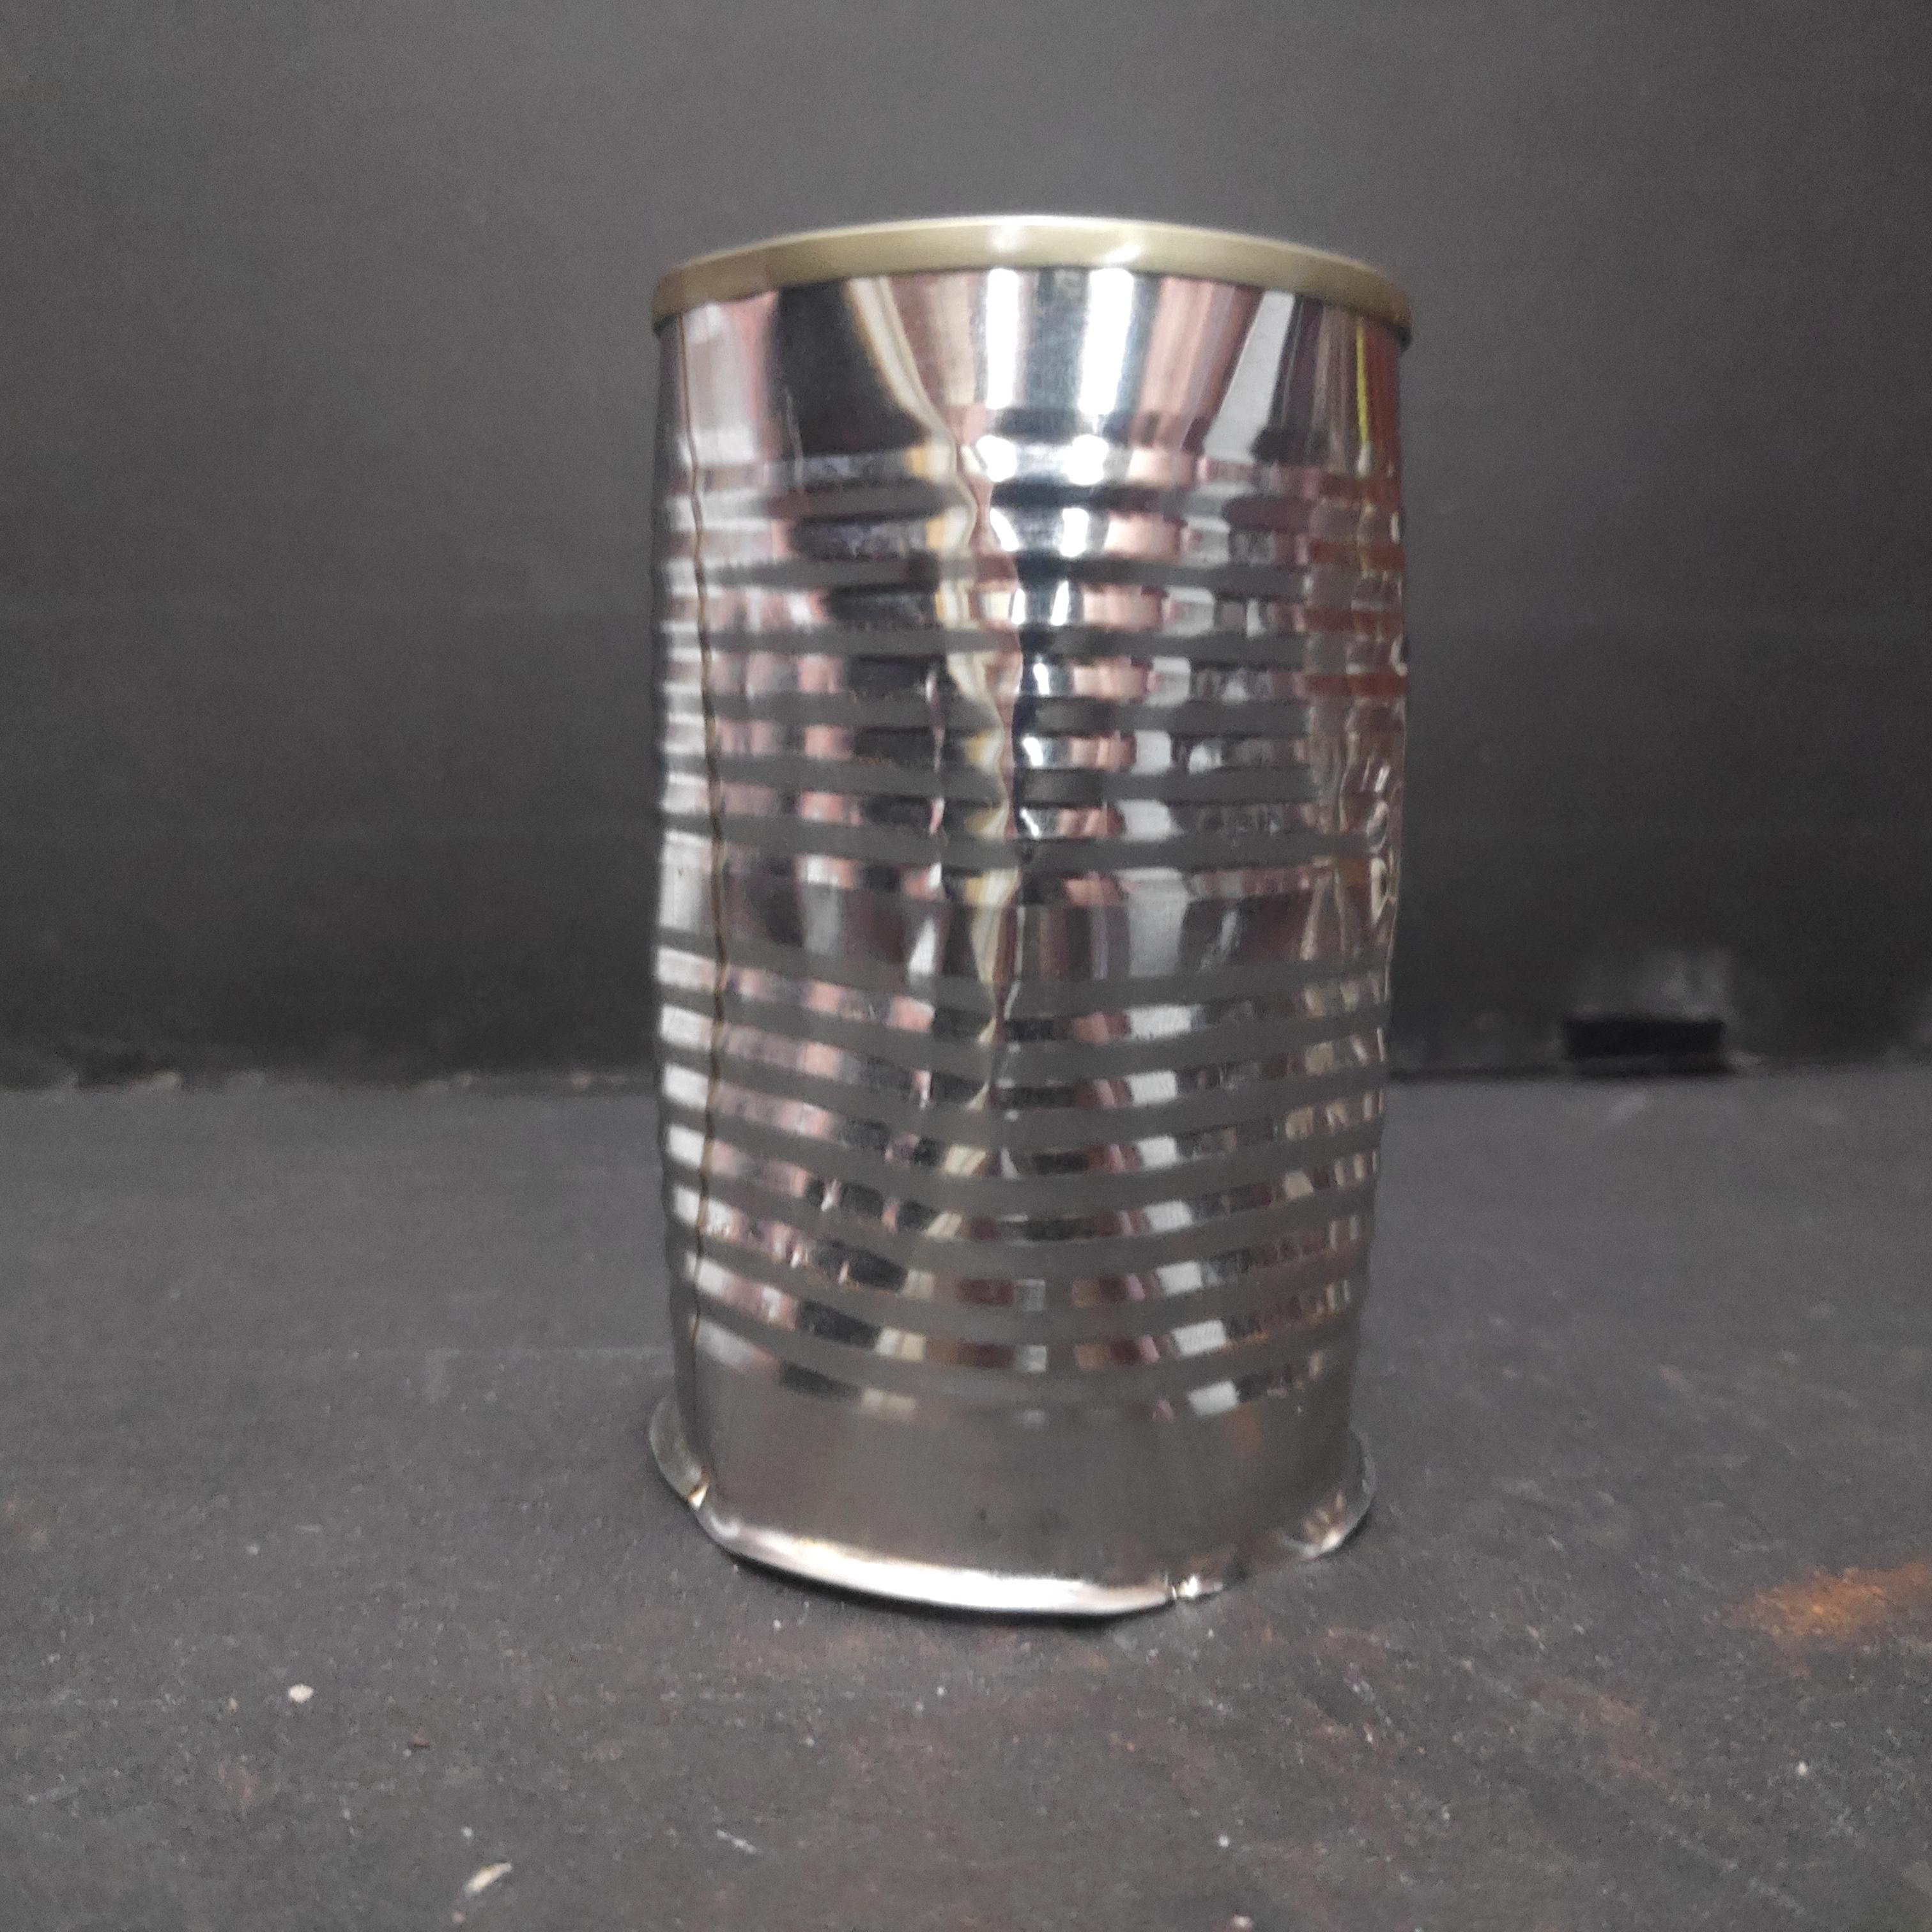Minor Defect: (633, 205, 1421, 1652)
